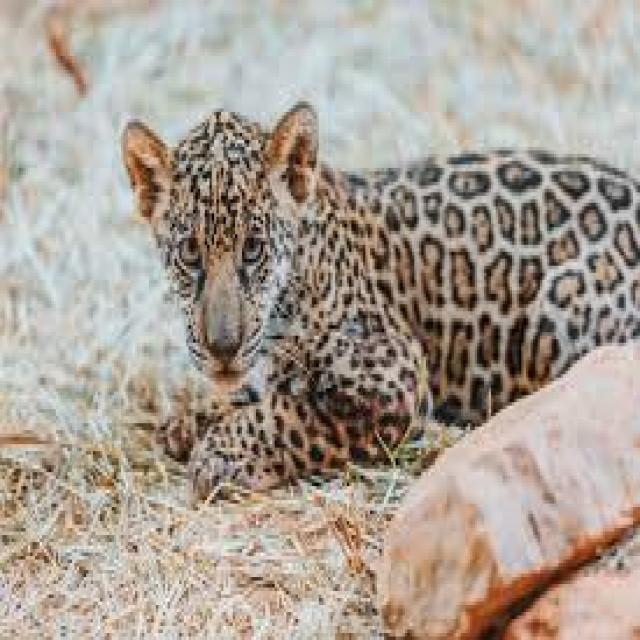Jaguar: (114, 98, 640, 465)
